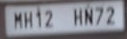character: (105, 5, 115, 25), (84, 7, 93, 26), (12, 11, 22, 28), (23, 10, 32, 28), (73, 8, 82, 26), (44, 9, 52, 28), (94, 6, 102, 25), (35, 10, 42, 28)
